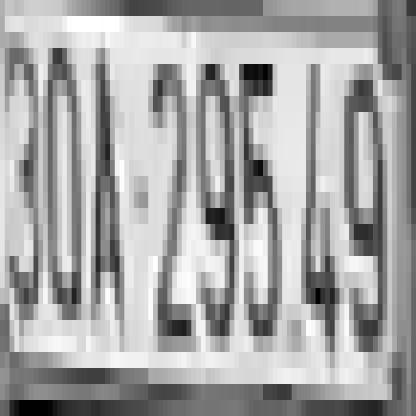0: (43, 48, 86, 304)
2: (153, 64, 191, 320)
3: (10, 32, 38, 320)
4: (296, 64, 330, 352)
5: (239, 64, 277, 336)
9: (340, 80, 382, 336), (196, 64, 234, 320)
A: (91, 48, 124, 304)
